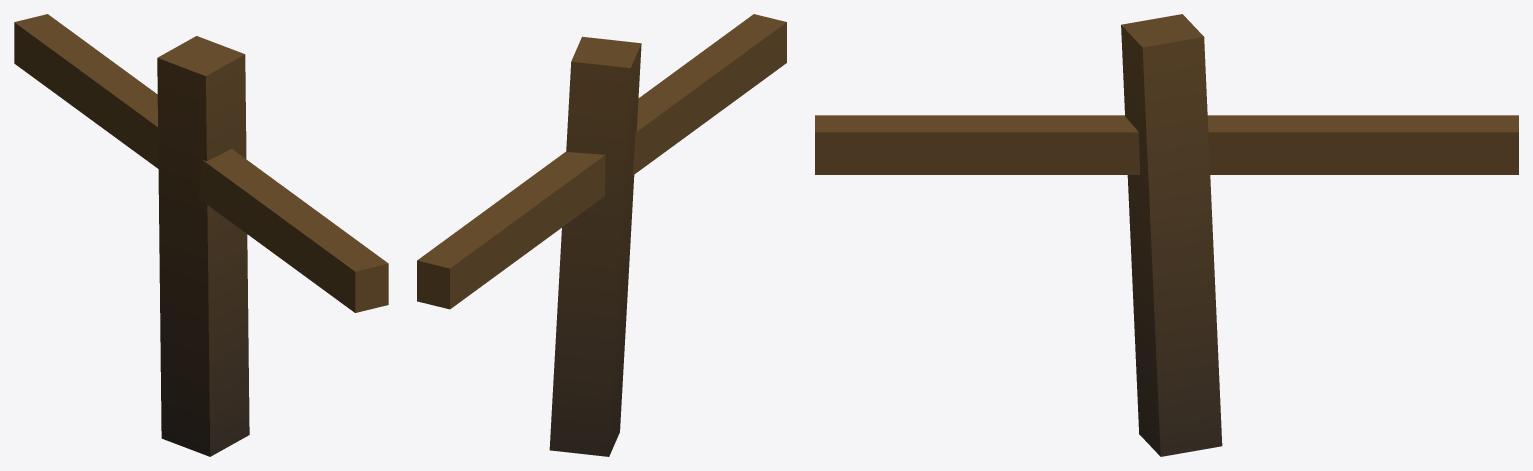
Rendered from Barriere_Side.glb.
3 renders of one model, left to right at view 1: azimuth 30°, elevation 25°; view 2: azimuth 150°, elevation 25°; view 3: azimuth 270°, elevation 25°, orthographic. The views are drawn at different scales.
Parts seen in each view (by area): view 1: Plane.405; view 2: Plane.405; view 3: Plane.405.
Part boxes in pixels (box(x1,y1,x2,y2)): Plane.405: box(14, 14, 388, 456); Plane.405: box(417, 14, 786, 456); Plane.405: box(815, 14, 1518, 456).
Bounding box in the file's own units: 0.1384 × 0.6371 × 1.
